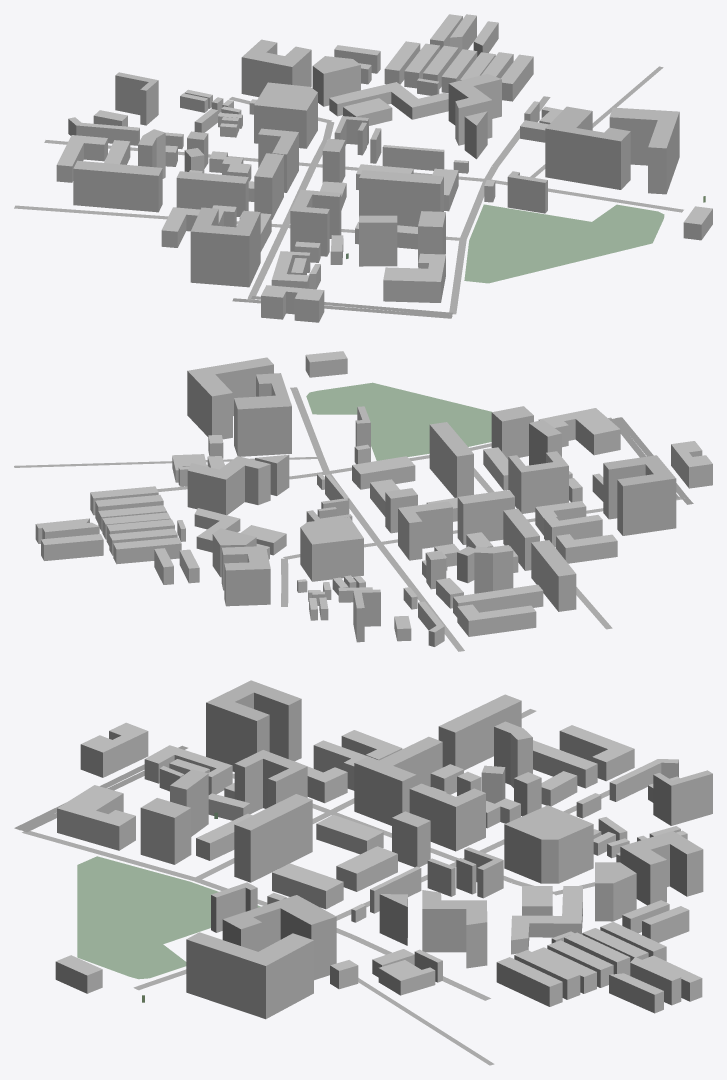
3 views of the same model, one above another, from view 1: azimuth 30°, elevation 25°; view 2: azimuth 150°, elevation 25°; view 3: azimuth 270°, elevation 25° (orthographic). The views are drawn at different scales.
Size of the model in its own units: 699 by 56.12 by 579.
